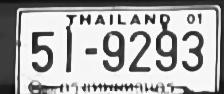1: (64, 26, 72, 72)
2: (128, 30, 150, 72)
3: (181, 30, 203, 70)
5: (31, 30, 54, 72)
9: (155, 28, 176, 70), (102, 30, 124, 70)
BKK: (57, 78, 178, 94)
